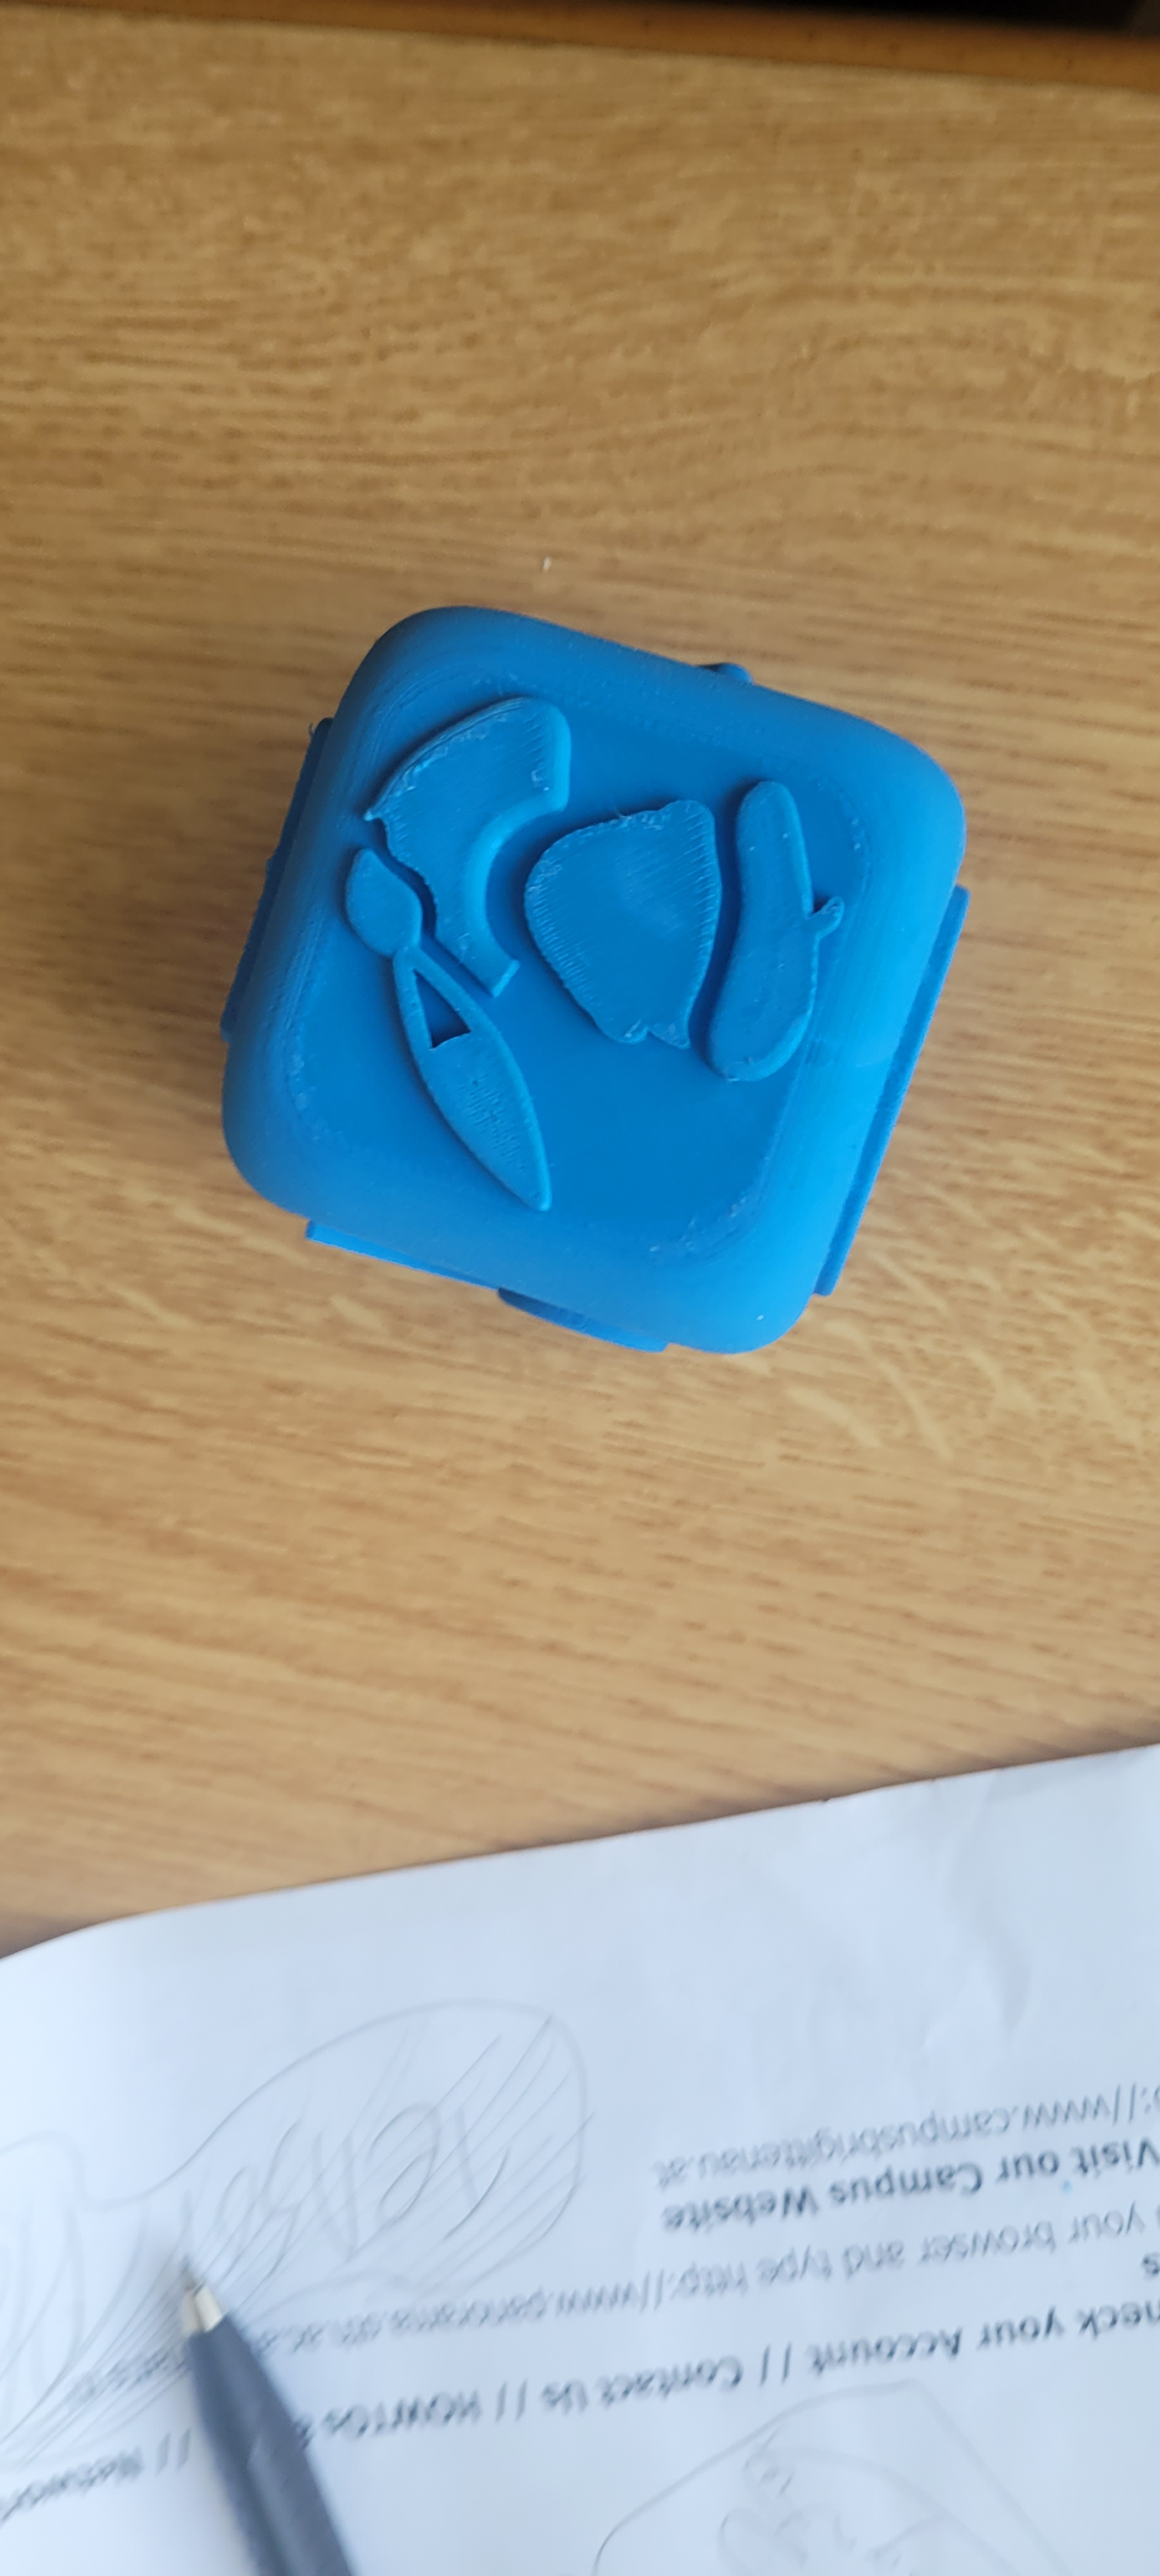Artist_Info: (177, 636, 976, 1321)
